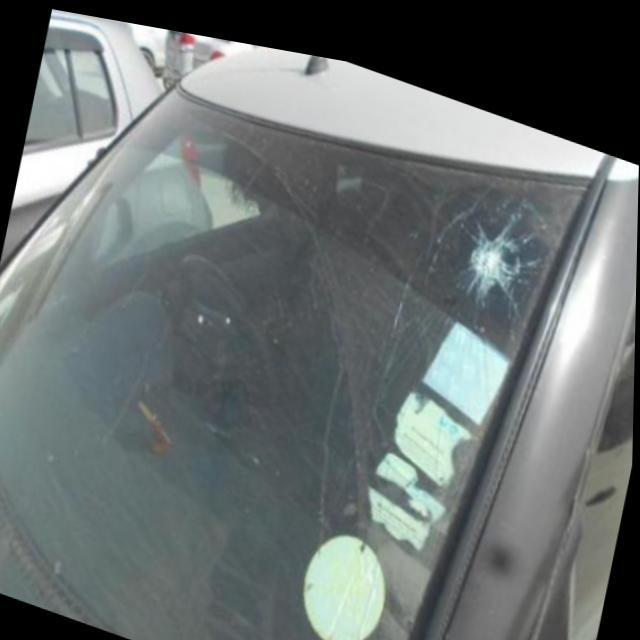glass shatter: (451, 195, 530, 301)
